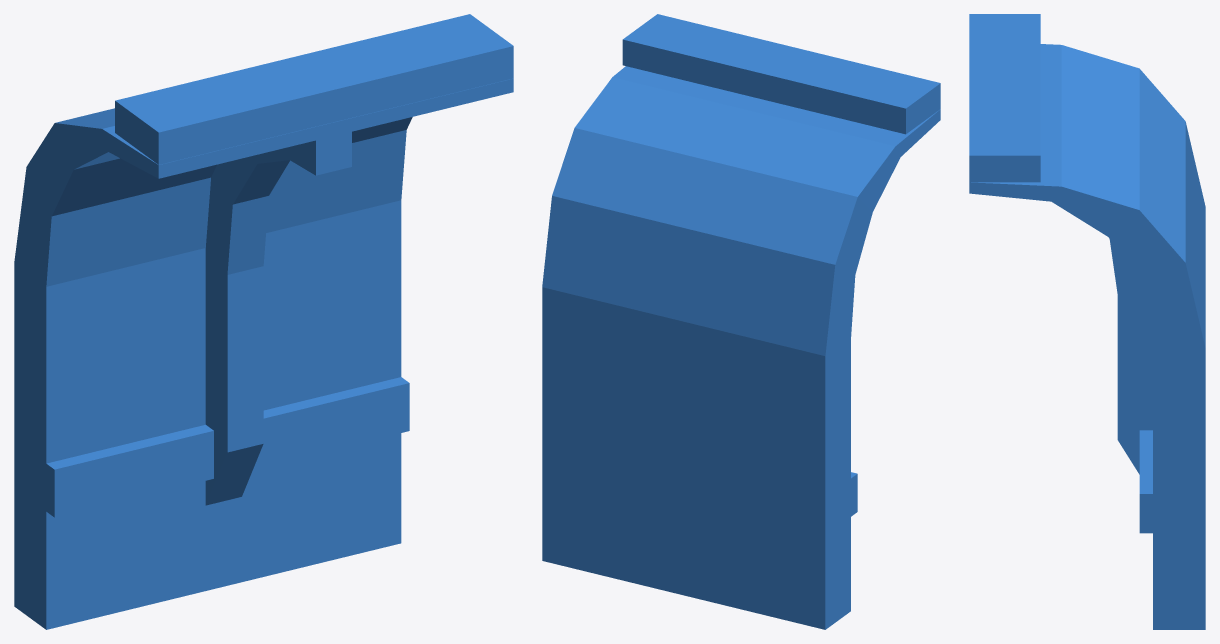
The model's file is Collision_Overhang_WoodenWear_Short.fbx.
The picture shows the model from 3 angles, left to right: view 1: azimuth 30°, elevation 25°; view 2: azimuth 150°, elevation 25°; view 3: azimuth 270°, elevation 25°; orthographic projection. The views are drawn at different scales.
Visible parts, largest first — view 1: UCX_Overhang_WoodenWear_Short_01; view 2: UCX_Overhang_WoodenWear_Short_01; view 3: UCX_Overhang_WoodenWear_Short_01.
Boxes of the visible parts, x1,y1,x2,y2 form: UCX_Overhang_WoodenWear_Short_01: (14,14,513,629); UCX_Overhang_WoodenWear_Short_01: (542,14,940,629); UCX_Overhang_WoodenWear_Short_01: (969,14,1205,629).
Size of the model in its own units: 200 by 312 by 141.
